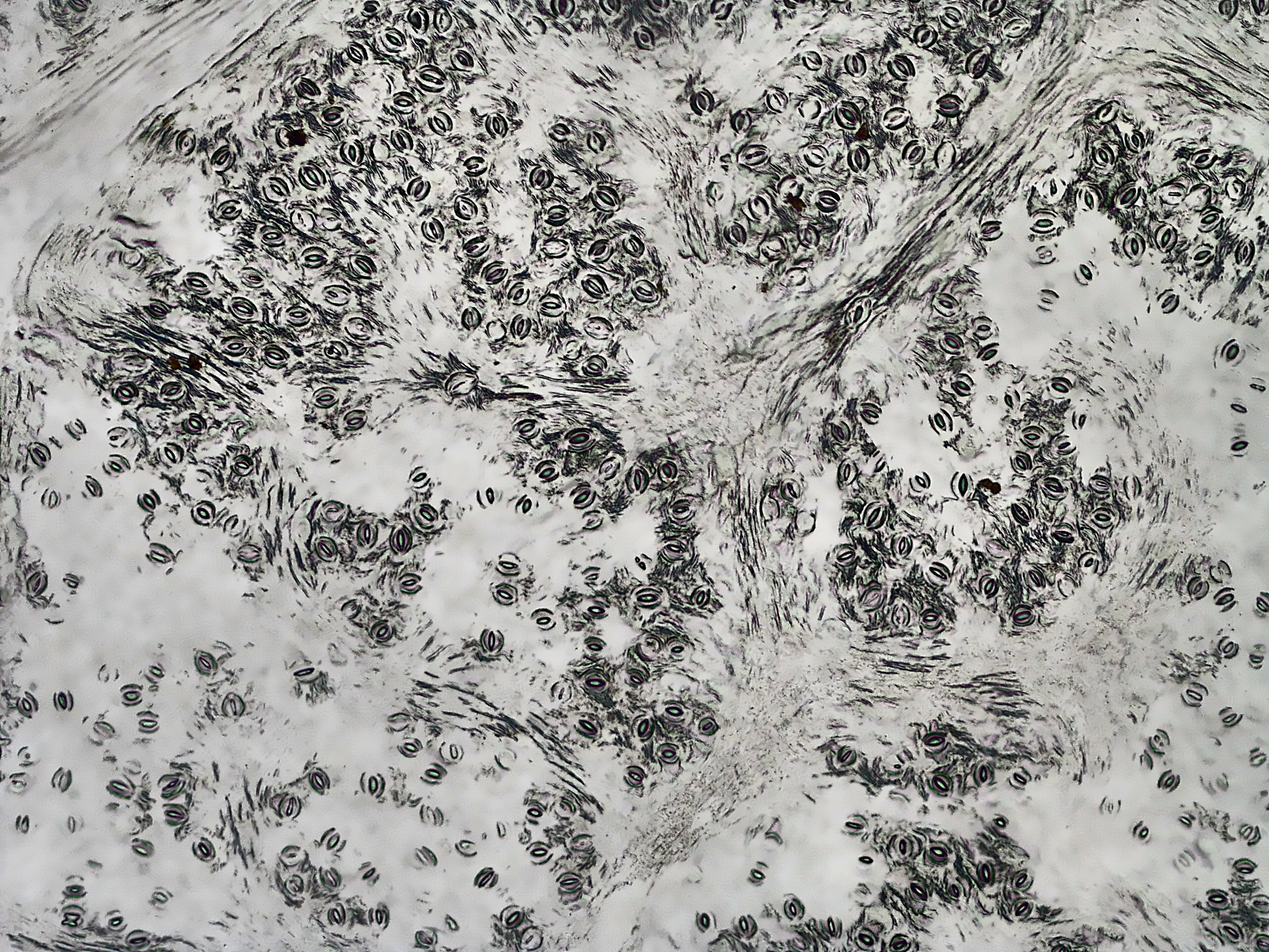stomata: (683, 83, 718, 118), (315, 825, 348, 857), (842, 297, 874, 328), (587, 185, 623, 212), (1178, 679, 1212, 707), (1210, 631, 1239, 663), (152, 772, 188, 797), (861, 500, 891, 530), (441, 370, 477, 395), (22, 441, 53, 470), (179, 271, 212, 298), (885, 56, 918, 83), (1000, 18, 1037, 42), (935, 329, 965, 358), (1148, 726, 1177, 756), (942, 874, 970, 905), (258, 177, 295, 200), (359, 770, 388, 799), (581, 272, 610, 301), (303, 766, 333, 794), (343, 316, 378, 340), (192, 649, 219, 680), (479, 257, 510, 284), (312, 536, 344, 562), (1006, 604, 1039, 629), (581, 315, 614, 340), (627, 278, 660, 303), (732, 144, 771, 165), (891, 833, 919, 862), (969, 314, 999, 341), (574, 712, 600, 743), (582, 237, 613, 263), (581, 599, 616, 622), (288, 659, 320, 684), (258, 343, 290, 368), (576, 670, 609, 694), (1124, 124, 1148, 157), (998, 388, 1025, 417), (931, 291, 960, 318), (338, 138, 365, 167), (416, 64, 445, 91), (1113, 180, 1142, 207), (1217, 709, 1251, 732), (276, 796, 306, 822), (880, 108, 917, 129), (114, 684, 145, 709), (460, 276, 491, 301), (964, 49, 989, 80), (1076, 185, 1101, 216), (420, 797, 444, 829), (1233, 237, 1256, 270), (461, 233, 490, 259), (298, 163, 327, 189), (292, 76, 321, 102), (228, 295, 258, 320), (528, 609, 558, 634), (890, 530, 915, 560), (87, 718, 118, 742), (564, 428, 595, 452), (58, 875, 89, 899), (298, 247, 330, 270), (857, 585, 884, 612), (1006, 868, 1033, 895), (529, 165, 557, 191), (777, 174, 803, 202), (910, 23, 938, 49), (1153, 225, 1179, 253), (538, 235, 571, 257), (757, 238, 790, 260), (479, 628, 504, 657), (928, 410, 957, 435), (348, 253, 377, 278), (835, 101, 860, 130), (826, 419, 850, 449), (174, 127, 198, 157), (155, 382, 189, 403), (217, 334, 248, 357), (485, 109, 508, 140), (522, 842, 554, 864), (554, 871, 586, 893), (221, 693, 248, 719), (411, 502, 438, 528), (1009, 451, 1036, 477), (440, 909, 466, 936), (450, 46, 476, 73), (832, 544, 860, 569), (511, 417, 539, 442), (453, 196, 481, 221), (1130, 824, 1158, 849), (1020, 425, 1049, 449), (510, 313, 534, 342), (504, 279, 528, 308), (781, 895, 805, 924), (817, 911, 841, 940), (531, 458, 561, 481), (368, 903, 391, 933), (841, 814, 872, 836), (39, 486, 65, 512), (597, 456, 623, 482), (569, 482, 595, 508), (272, 124, 298, 150), (904, 877, 930, 903), (925, 561, 952, 586), (626, 467, 651, 494), (1055, 435, 1082, 460), (523, 802, 548, 829), (794, 224, 819, 251), (1188, 244, 1215, 269), (101, 456, 133, 477), (25, 572, 49, 600), (631, 714, 655, 742), (1048, 523, 1080, 544), (952, 469, 973, 501), (1040, 476, 1068, 500), (1154, 289, 1182, 313), (388, 526, 411, 555), (949, 375, 978, 398), (581, 354, 610, 377), (236, 266, 265, 289), (934, 93, 963, 116), (307, 387, 342, 406), (972, 858, 994, 888), (917, 730, 948, 751), (633, 24, 654, 55), (189, 501, 215, 526), (50, 766, 75, 792), (368, 617, 393, 643), (280, 843, 306, 868), (215, 197, 241, 222), (555, 794, 582, 818), (801, 143, 828, 167), (1077, 551, 1101, 578), (940, 6, 964, 33), (156, 441, 184, 464), (144, 658, 172, 681), (582, 632, 610, 655), (666, 638, 694, 661), (662, 541, 690, 564), (421, 216, 444, 244), (98, 910, 126, 933), (190, 836, 213, 864), (428, 112, 456, 135), (1097, 794, 1125, 817), (927, 842, 955, 865), (1047, 375, 1076, 397), (989, 811, 1018, 833), (340, 410, 370, 431), (934, 141, 955, 171), (412, 843, 437, 868), (146, 541, 172, 565), (180, 411, 206, 435), (655, 740, 681, 764), (476, 484, 502, 508), (976, 573, 1000, 599), (15, 690, 38, 717), (133, 712, 160, 735), (1021, 564, 1044, 591), (747, 194, 770, 221), (1195, 208, 1222, 231), (543, 124, 574, 144), (354, 520, 376, 548), (918, 607, 946, 629), (538, 294, 566, 316), (158, 804, 186, 826), (747, 860, 769, 888), (256, 224, 284, 246), (1122, 473, 1144, 501), (318, 500, 348, 520), (439, 739, 464, 763), (514, 496, 538, 521), (493, 582, 518, 606), (119, 930, 149, 950), (474, 867, 499, 891), (289, 210, 314, 234), (1040, 173, 1060, 203), (107, 773, 133, 796), (492, 749, 518, 772), (667, 498, 693, 521), (324, 901, 347, 927), (212, 146, 235, 172), (586, 129, 612, 152), (1189, 149, 1215, 172), (929, 772, 956, 794), (988, 532, 1015, 554), (760, 496, 782, 523), (793, 509, 815, 536), (1034, 287, 1061, 309), (354, 861, 381, 883), (515, 928, 542, 950), (1202, 889, 1229, 911), (142, 298, 170, 319), (432, 6, 453, 34), (320, 285, 349, 305), (688, 586, 712, 610), (1214, 587, 1238, 611), (388, 710, 413, 733), (857, 401, 882, 424), (500, 904, 525, 927), (390, 127, 413, 152), (390, 91, 415, 114), (382, 28, 407, 51), (727, 108, 752, 131), (52, 689, 74, 715), (619, 668, 645, 690), (631, 554, 657, 576), (408, 177, 430, 203), (800, 95, 822, 121), (1087, 472, 1113, 494), (1091, 140, 1113, 166), (1158, 183, 1184, 205), (39, 604, 66, 625), (396, 572, 423, 593), (633, 590, 660, 611), (579, 566, 606, 587), (131, 836, 152, 863), (462, 154, 489, 175), (890, 602, 910, 630), (780, 267, 808, 287), (117, 354, 148, 372), (232, 544, 263, 562), (408, 5, 426, 36), (286, 304, 310, 327), (282, 875, 306, 898), (902, 140, 926, 163), (662, 702, 691, 721), (853, 925, 875, 950), (1225, 434, 1251, 455), (872, 449, 892, 476), (974, 343, 1001, 363), (837, 459, 856, 487), (549, 682, 572, 705), (1210, 561, 1233, 584), (136, 491, 160, 513), (497, 554, 521, 576), (908, 470, 932, 492), (57, 815, 81, 837), (571, 831, 593, 855), (724, 224, 748, 246), (1034, 244, 1058, 266), (1186, 577, 1210, 599), (1028, 219, 1059, 236), (80, 475, 101, 500), (696, 716, 721, 737), (780, 477, 801, 502), (1124, 234, 1145, 259), (1005, 770, 1034, 788), (973, 219, 1002, 237), (228, 454, 254, 474), (420, 763, 447, 782), (59, 570, 81, 593), (113, 383, 135, 406), (407, 466, 430, 488), (58, 907, 81, 929), (692, 908, 715, 930), (815, 190, 838, 212), (623, 763, 644, 787), (1011, 501, 1032, 525), (704, 181, 728, 202), (766, 90, 790, 111), (1009, 898, 1033, 919), (461, 304, 481, 329), (148, 887, 173, 907), (545, 206, 571, 225), (320, 108, 347, 126), (1088, 508, 1115, 526), (64, 418, 87, 439), (658, 459, 679, 482), (486, 319, 507, 342), (10, 814, 33, 835), (318, 868, 341, 889), (735, 914, 756, 937), (1096, 102, 1119, 123), (835, 742, 855, 766), (848, 149, 868, 173), (1070, 406, 1089, 431), (457, 836, 478, 858), (1225, 178, 1246, 200), (1219, 341, 1241, 362), (1073, 262, 1096, 282), (105, 426, 129, 445), (93, 664, 117, 683), (338, 599, 362, 618), (623, 235, 642, 259), (975, 761, 993, 786), (1219, 922, 1244, 940), (188, 469, 214, 486), (1156, 770, 1182, 787), (223, 516, 244, 537), (415, 926, 436, 947), (581, 511, 603, 531), (846, 54, 866, 76), (856, 850, 878, 870), (326, 340, 350, 358), (399, 737, 420, 757), (1234, 858, 1255, 878), (370, 139, 389, 161), (356, 0, 383, 15), (880, 760, 905, 776), (1226, 397, 1247, 416), (1243, 379, 1267, 395), (563, 337, 580, 359), (801, 52, 823, 69), (1241, 826, 1260, 845), (1248, 747, 1266, 767), (322, 212, 343, 229), (885, 934, 906, 951), (346, 43, 365, 61), (19, 747, 34, 769), (1245, 651, 1265, 667), (1253, 596, 1269, 614), (8, 775, 26, 790), (1175, 815, 1194, 827)
